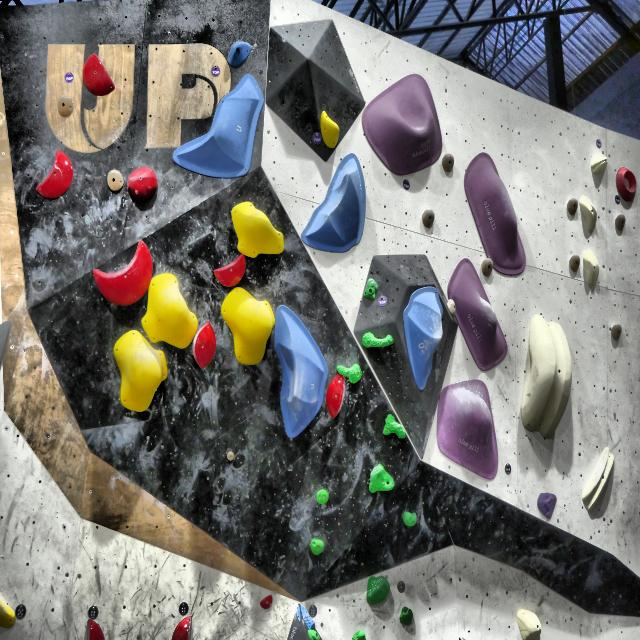Hold: (174, 73, 262, 184), (464, 151, 536, 276), (359, 72, 442, 177), (275, 294, 332, 445), (518, 311, 574, 452), (446, 253, 510, 372), (433, 379, 501, 482), (302, 155, 365, 258), (107, 329, 172, 415), (220, 282, 272, 376), (90, 236, 152, 305), (405, 279, 442, 392), (142, 273, 198, 346), (224, 199, 286, 256), (578, 446, 618, 514), (35, 146, 74, 202), (77, 54, 117, 100), (577, 244, 605, 300), (213, 252, 245, 292), (324, 373, 346, 430), (127, 167, 158, 207), (195, 318, 218, 371), (578, 191, 603, 239), (360, 323, 396, 354), (514, 603, 544, 640), (613, 165, 640, 205), (363, 461, 397, 492), (317, 108, 342, 150), (378, 409, 406, 444), (364, 570, 390, 606), (531, 489, 557, 522), (227, 36, 252, 70), (584, 146, 610, 177), (172, 613, 200, 640), (334, 358, 362, 384), (307, 538, 327, 562), (360, 278, 380, 300), (258, 592, 276, 611), (301, 605, 316, 627), (402, 508, 419, 527), (398, 606, 413, 626), (292, 601, 302, 625), (305, 625, 321, 640), (314, 489, 329, 503), (352, 629, 366, 640), (297, 625, 302, 625)
